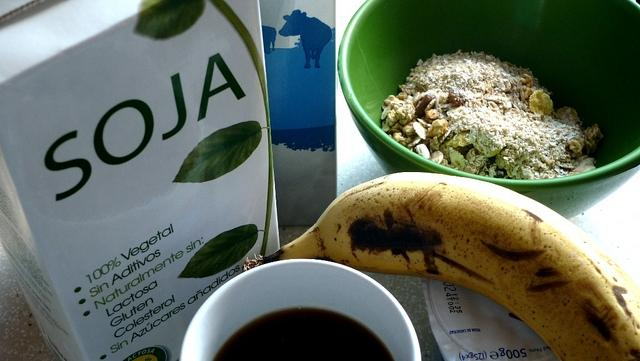banana: (243, 172, 640, 361)
